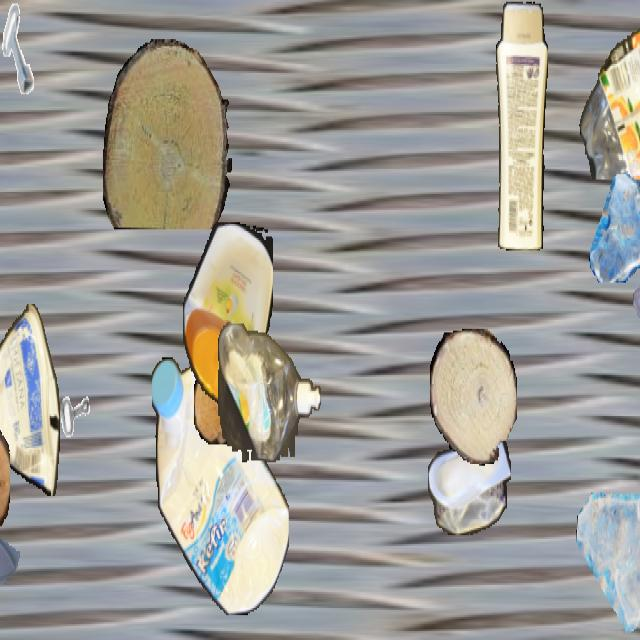glass: (575, 486, 640, 638), (588, 174, 640, 281), (0, 486, 19, 638), (633, 256, 640, 377)
metal: (41, 343, 99, 446), (0, 2, 46, 94)
plastic: (152, 356, 288, 615), (183, 222, 273, 404), (218, 324, 320, 462), (493, 2, 547, 250), (0, 304, 59, 496), (578, 2, 640, 180), (428, 427, 510, 533)
wood: (103, 39, 231, 228), (430, 329, 516, 464), (194, 362, 238, 444), (0, 413, 10, 551), (636, 528, 640, 638)
